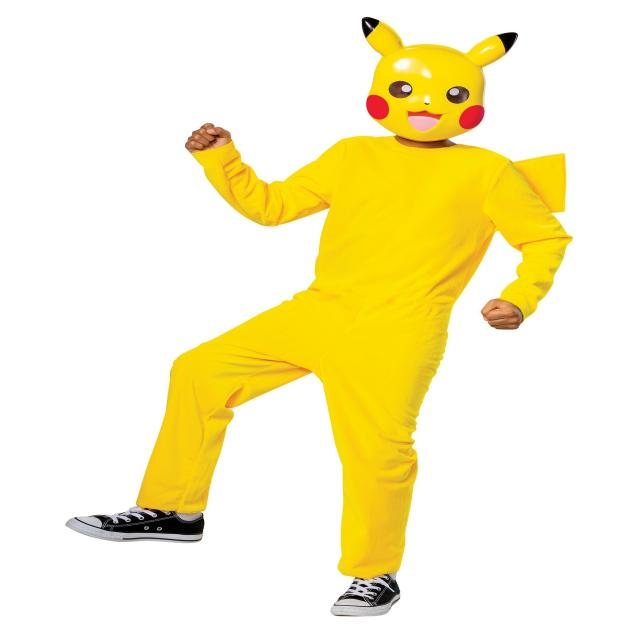Pikachu: (269, 21, 601, 157)
